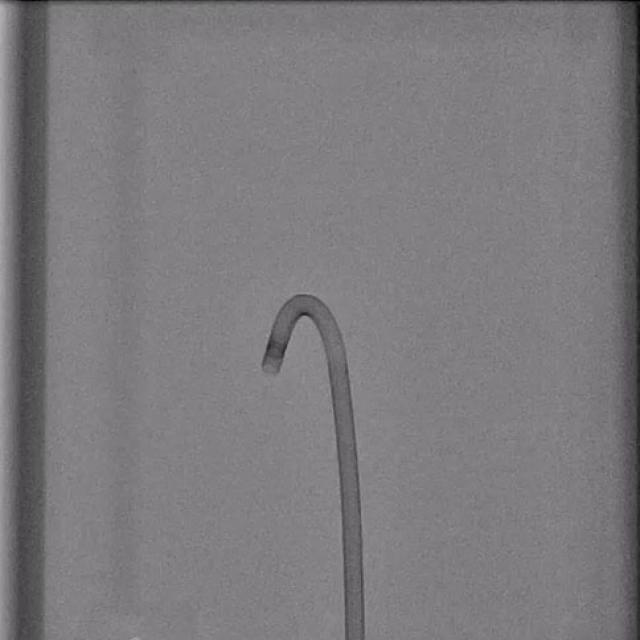bend: (336, 426, 355, 444)
entry: (346, 635, 364, 640)
marker: (266, 339, 287, 359)
tip: (262, 364, 280, 374)
